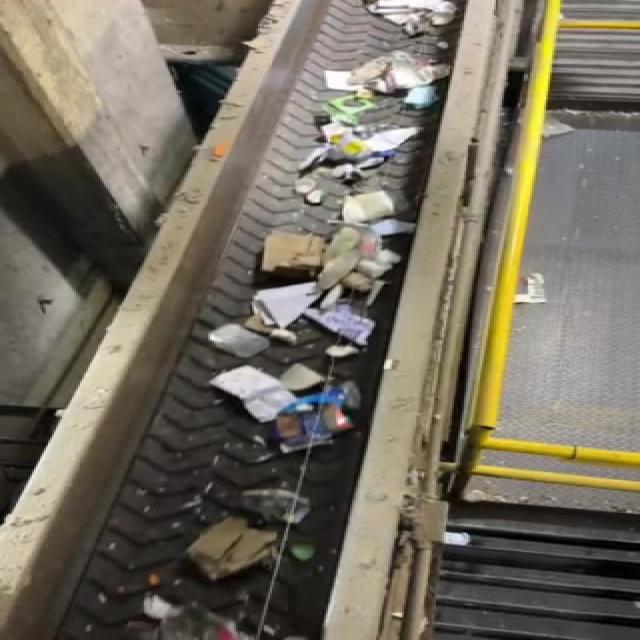paper: (176, 521, 287, 584)
pet: (277, 396, 369, 460)
